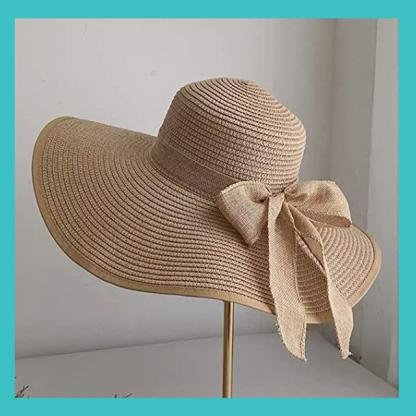hat: (26, 74, 385, 328)
